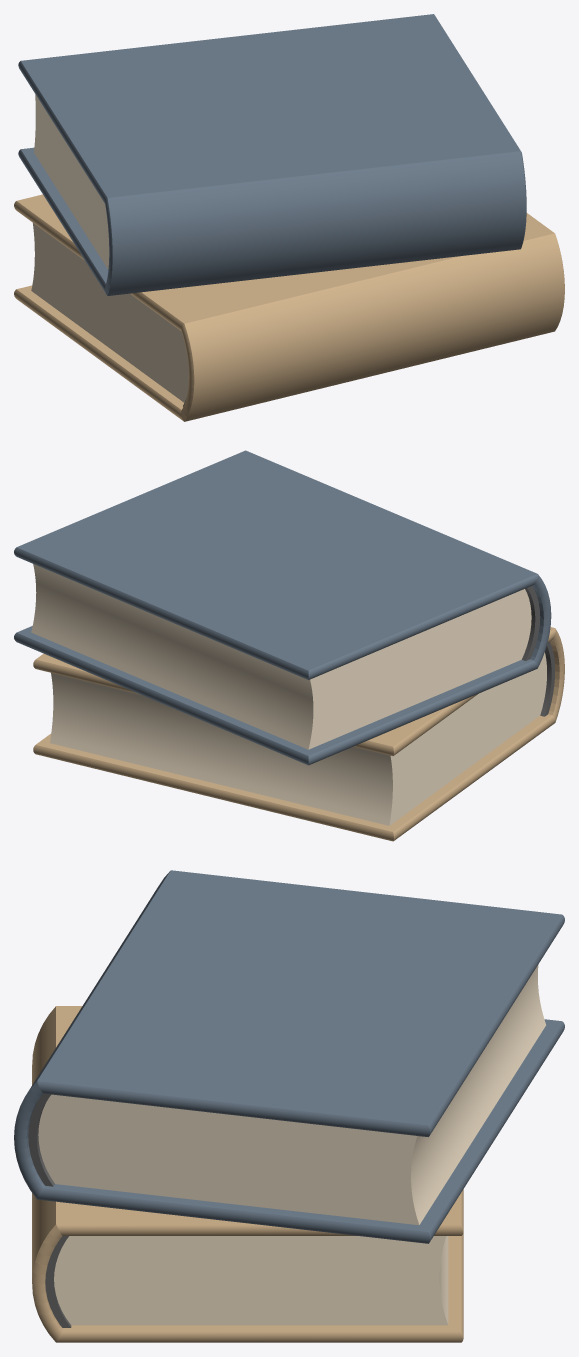
The model's file is book.dae.
3 renders of one model, top to bottom at view 1: azimuth 30°, elevation 25°; view 2: azimuth 150°, elevation 25°; view 3: azimuth 270°, elevation 25°, orthographic. The views are drawn at different scales.
Visible parts, largest first — view 1: book_1 (×2), book (×2); view 2: book_1 (×3), book (×3); view 3: book_1 (×3), book (×3).
Boxes of the visible parts, <box> form: book_1 (×2): <box>18,14,526,295</box>; book (×2): <box>14,194,564,421</box>; book_1 (×3): <box>14,450,551,765</box>; book (×3): <box>33,627,564,841</box>; book_1 (×3): <box>14,870,564,1243</box>; book (×3): <box>32,1006,463,1342</box>.
Bounding box in the file's own units: 14.83 × 13.33 × 6.32.
